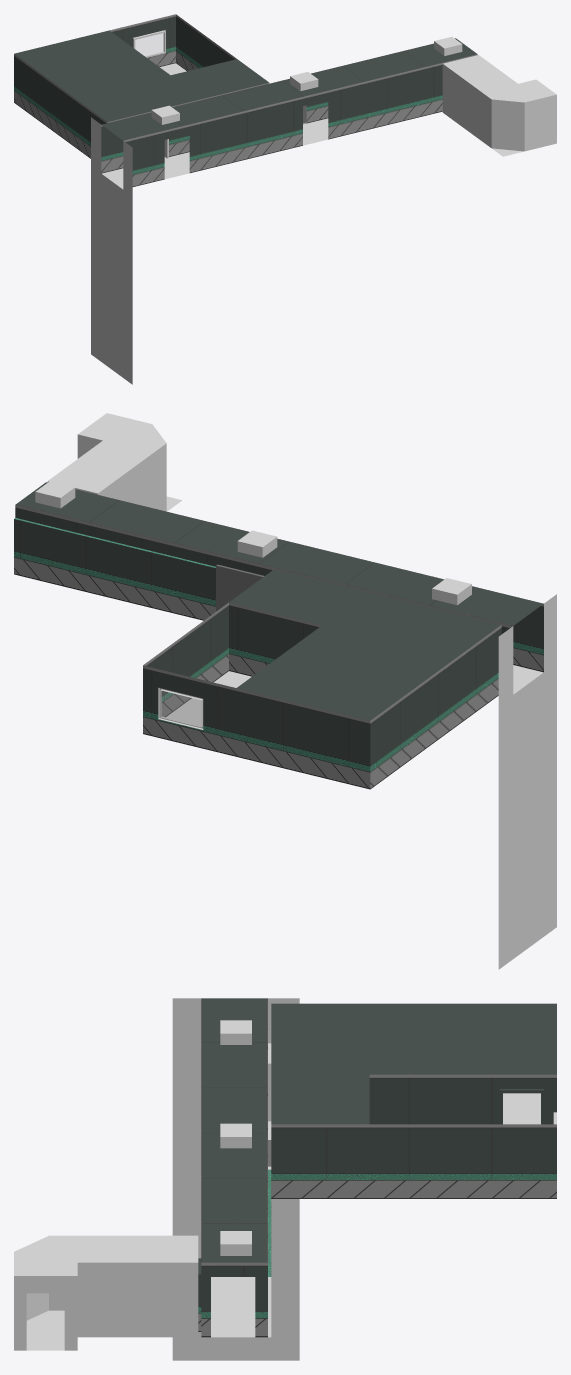
File: TargetApartment.fbx
3 renders of one model, top to bottom at view 1: azimuth 30°, elevation 25°; view 2: azimuth 150°, elevation 25°; view 3: azimuth 270°, elevation 25°, orthographic. The views are drawn at different scales.
Parts seen in each view (by area): view 1: TargetApartment; view 2: TargetApartment; view 3: TargetApartment.
Part boxes in pixels (bbox=[...]): TargetApartment: bbox=[14, 14, 556, 384]; TargetApartment: bbox=[14, 413, 556, 969]; TargetApartment: bbox=[14, 998, 556, 1360].
Bounding box in the file's own units: 2070 × 1300 × 1710.
Materials: 10 (1 with a texture image).
